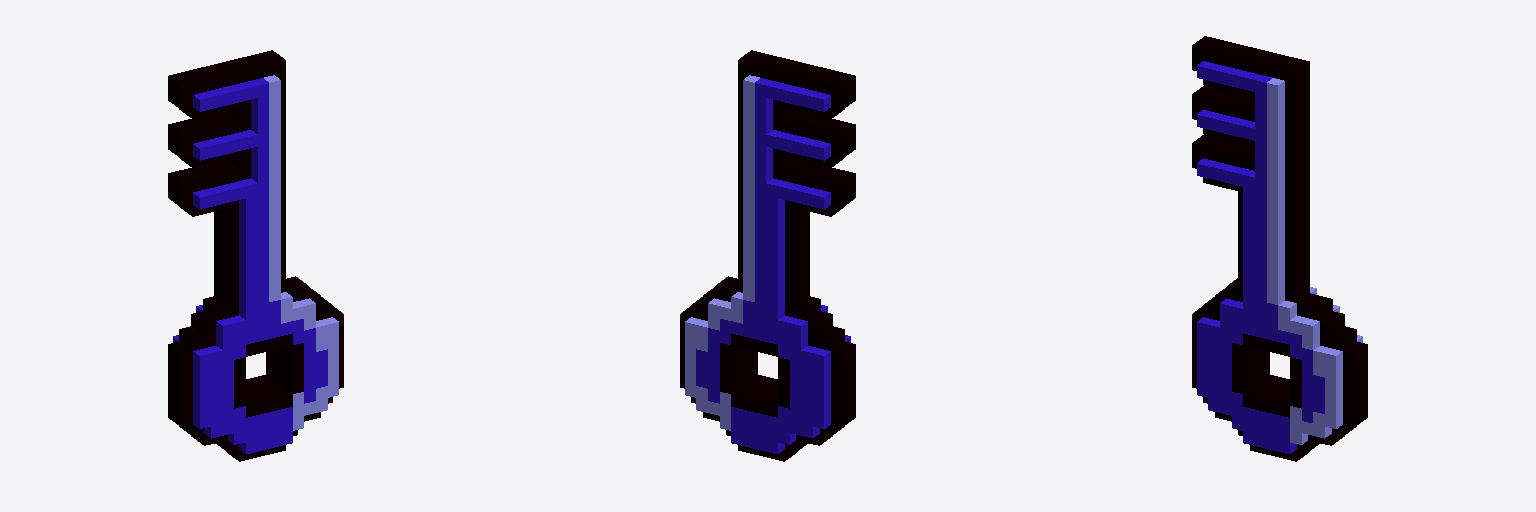
3 views of the same model, side by side, from view 1: azimuth 30°, elevation 25°; view 2: azimuth 150°, elevation 25°; view 3: azimuth 330°, elevation 25° (orthographic).
Visible parts, largest first — view 1: key-blue-icon; view 2: key-blue-icon; view 3: key-blue-icon.
Part boxes in pixels (left/top/right/bottom): key-blue-icon: left=168, top=50, right=343, bottom=461; key-blue-icon: left=680, top=50, right=855, bottom=461; key-blue-icon: left=1192, top=36, right=1367, bottom=461.
Size of the model in its own units: 1.4 by 3.2 by 0.4.
1 materials, 1 textured.